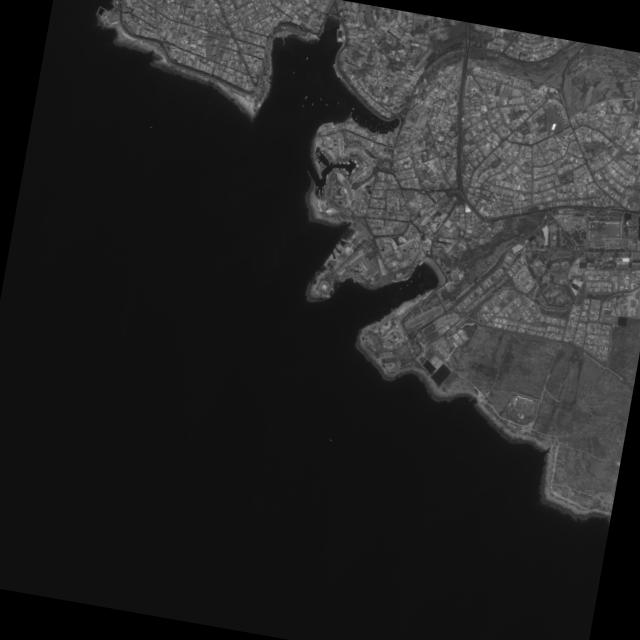ship: (302, 93, 307, 99), (324, 172, 327, 178), (324, 178, 326, 183)
